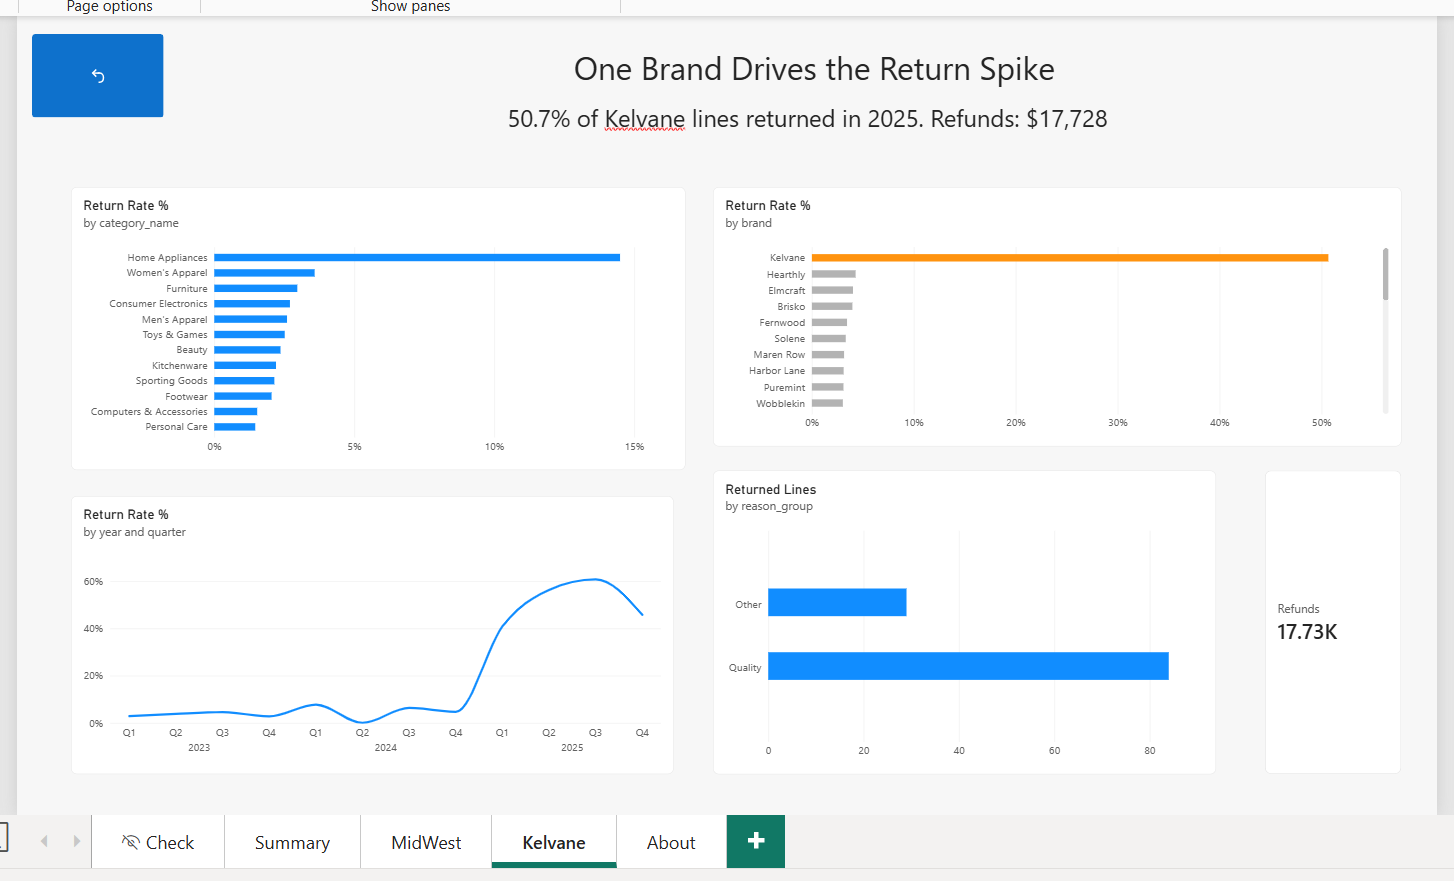

The dashboard page shown, as its layout file describes it:
{"tool":"powerbi","page":{"name":"Kelvane","canvas":[1920,1080],"ordinal":3},"visuals":[{"type":"textbox","box":[172,41.4,1746.7,70.4],"z":0},{"type":"barChart","fields":{"Category":["dim_product.category_name"],"Y":["_Measures.Return Rate %"]},"box":[72.1,231.9,830.5,382.3],"z":1},{"type":"barChart","fields":{"Category":["dim_product.brand"],"Y":["_Measures.Return Rate %"]},"box":[940.2,231.9,930.8,351],"z":2},{"type":"barChart","fields":{"Category":["fact_returns.reason_group"],"Y":["_Measures.Returned Lines"]},"box":[940.2,614.2,680.1,410.5],"z":3},{"type":"cardVisual","fields":{"Data":["_Measures.Refunds"]},"box":[1686,614.2,184.9,410.5],"z":4},{"type":"lineChart","fields":{"Category":["dim_date.year","dim_date.quarter"],"Y":["_Measures.Return Rate %"]},"box":[72.1,648.7,814.8,376.1],"z":5},{"type":"textbox","box":[172,116,1742.5,72.5],"z":6},{"type":"actionButton","box":[20.7,22.8,100.8,186.9],"z":7}]}

Visuals, with their boxes on the page's 1920x1080 design canvas (x1, y1, x2, y2). These are canvas units, not pixel positions in the 1454x881 screenshot, which may show the page scaled, cropped or inside an application window:
textbox: rect(172, 41, 1919, 112)
barChart - dim_product.category_name x _Measures.Return Rate %: rect(72, 232, 903, 614)
barChart - dim_product.brand x _Measures.Return Rate %: rect(940, 232, 1871, 583)
barChart - fact_returns.reason_group x _Measures.Returned Lines: rect(940, 614, 1620, 1025)
cardVisual - _Measures.Refunds: rect(1686, 614, 1871, 1025)
lineChart - dim_date.year x dim_date.quarter: rect(72, 649, 887, 1025)
textbox: rect(172, 116, 1914, 188)
actionButton: rect(21, 23, 122, 210)
